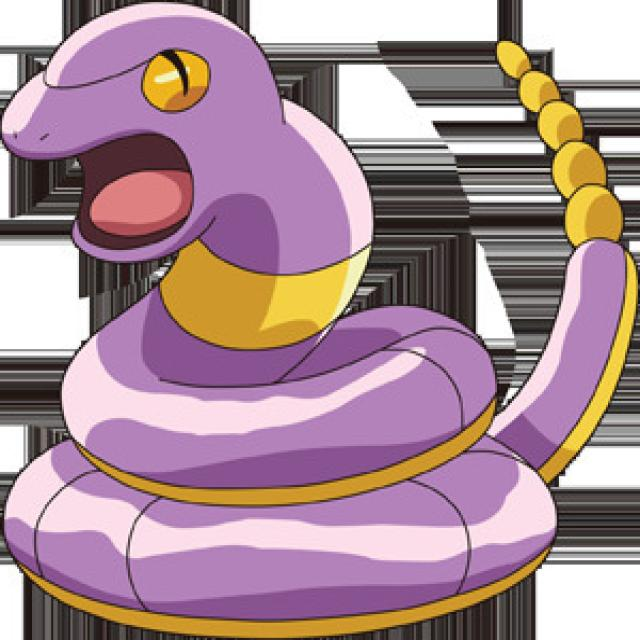Ekans: (6, 1, 555, 626)
